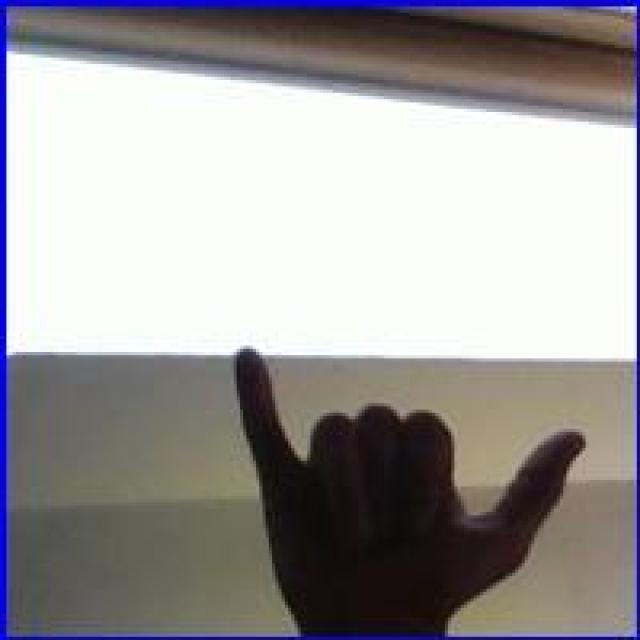Y: (228, 336, 594, 630)
